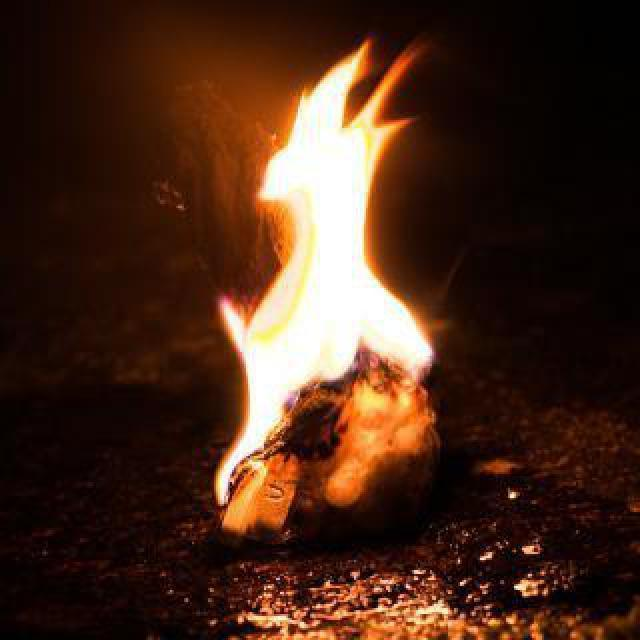Fire: (206, 28, 446, 500)
